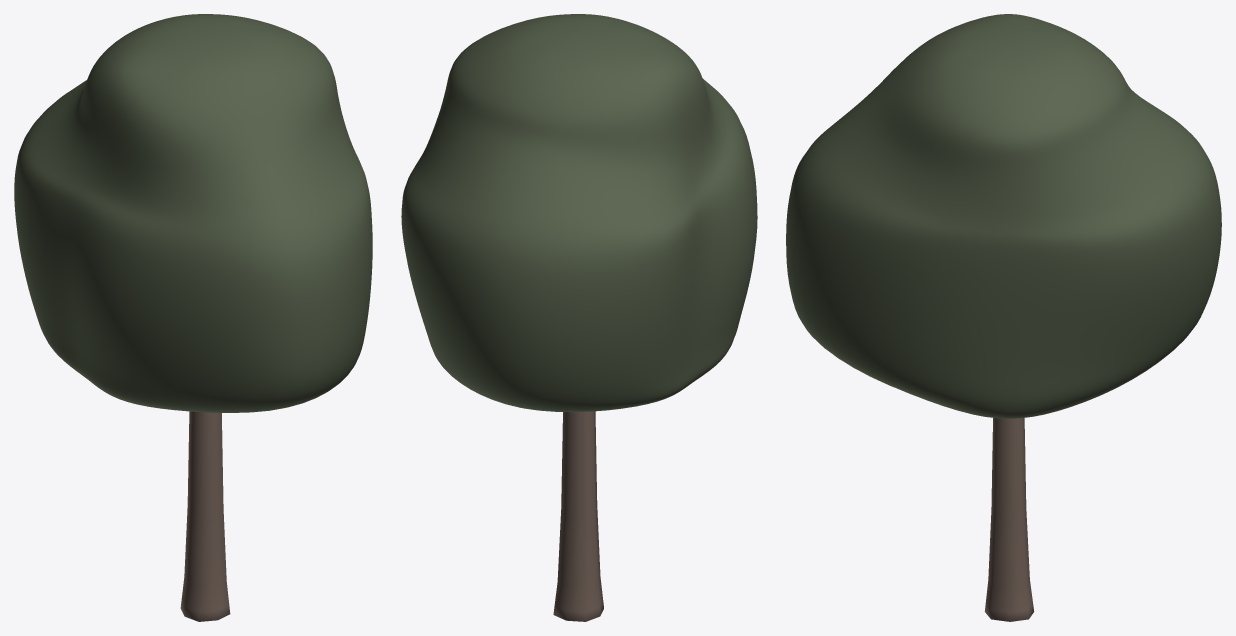
The model's file is Tree_Round_Large_Green.fbx.
The picture shows the model from 3 angles, left to right: view 1: azimuth 30°, elevation 25°; view 2: azimuth 150°, elevation 25°; view 3: azimuth 270°, elevation 25°; orthographic projection.
Parts seen in each view (by area): view 1: Leaves, Trunk; view 2: Leaves, Trunk; view 3: Leaves, Trunk.
Boxes of the visible parts, <box> form: Leaves: <box>14,14,372,412</box>; Trunk: <box>180,411,230,621</box>; Leaves: <box>401,14,757,412</box>; Trunk: <box>553,411,603,621</box>; Leaves: <box>786,14,1221,418</box>; Trunk: <box>984,418,1034,621</box>.
Bounding box in the file's own units: 0.8896 × 1.81 × 1.25.
